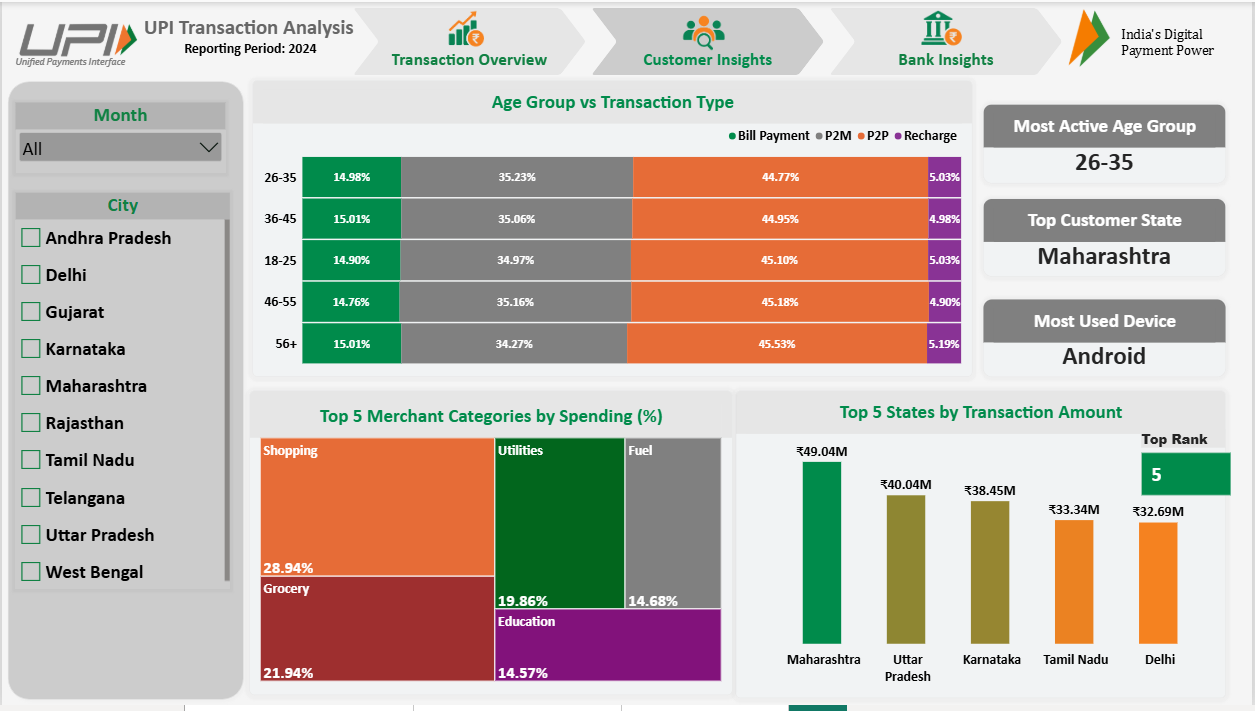

The dashboard page shown, as its layout file describes it:
{"tool":"powerbi","page":{"name":"Customer Insights","canvas":[1920,1080],"ordinal":1},"visuals":[{"type":"image","box":[6.9,4.6,221.2,108.3],"z":0,"group":"g1"},{"type":"textbox","box":[161.3,0,435.5,94.5],"z":1000,"group":"g1"},{"type":"pageNavigator","box":[539.2,9.2,1092.3,103.7],"z":2000},{"type":"card","title":"Most Active Age Group","fields":{"Values":["Calculated_measures.most_active_age_group"]},"box":[1507.1,156.7,373.3,122.1],"z":3000},{"type":"shape","box":[0,112.1,380.2,967.9],"z":4000},{"type":"image","box":[1610.8,4.6,115.2,101.4],"z":5000},{"type":"textbox","box":[1719.1,36.9,189,87.6],"z":6000},{"type":"image","box":[629.1,4.6,163.6,71.4],"z":7000},{"type":"image","box":[995.5,9.2,163.6,71.4],"z":8000},{"type":"image","box":[1359.6,4.6,163.6,71.4],"z":9000},{"type":"slicer","title":"City","fields":{"Values":["upi_transactions_2024.sender_state"]},"box":[20.7,292.7,329.5,608.4],"z":10000},{"type":"slicer","title":"Month","fields":{"Values":["Date_Table.Date.Variation.Date Hierarchy.Month"]},"box":[20.7,154.4,322.6,108.3],"z":11000},{"type":"card","title":"Top Customer State","fields":{"Values":["Calculated_measures.top_customer_state"]},"box":[1507.1,301.9,373.3,119.8],"z":12000},{"type":"card","title":"Most Used Device","fields":{"Values":["Calculated_measures.most_used_device_"]},"box":[1507.1,456.3,373.3,119.8],"z":13000},{"type":"hundredPercentStackedBarChart","title":"Age Group vs Transaction Type","fields":{"Category":["upi_transactions_2024.sender_age_group"],"Series":["upi_transactions_2024.transaction type"],"Y":["Calculated_measures.transaction_count_total"]},"box":[384.8,119.8,1106.1,456.3],"z":14000},{"type":"clusteredColumnChart","fields":{"Category":["upi_transactions_2024.sender_state"],"Y":["Calculated_measures.top_cities_rank_var"]},"box":[1126.9,596.9,753.6,472.4],"z":15000},{"type":"slicer","fields":{"Values":["Rank_Table .Rank_Table "]},"box":[1742.2,656.8,145,141],"z":16000},{"type":"treemap","title":"Top 5 Merchant Categories by Spending (%)","fields":{"Group":["upi_transactions_2024.merchant_category"],"Values":["Calculated_measures.merchant_spending_percentage"]},"box":[380.2,596.9,742,467.8],"z":17000},{"type":"group","id":"g1","title":"Group 1","box":[6.9,0,589.9,112.9],"z":17001},{"type":"textbox","box":[20.7,62.2,230.4,43.8],"z":18001,"group":"g1"}]}

Visuals, with their boxes in screenshot pixels (x1, y1, x2, y2), scaled from the page's 1920x1080 canvas onto the 1255x711 screenshot:
image: left=5, top=3, right=149, bottom=74
textbox: left=105, top=0, right=390, bottom=62
pageNavigator: left=352, top=6, right=1066, bottom=74
"Most Active Age Group" card: left=985, top=103, right=1229, bottom=184
shape: left=0, top=74, right=249, bottom=710
image: left=1053, top=3, right=1128, bottom=70
textbox: left=1124, top=24, right=1247, bottom=82
image: left=411, top=3, right=518, bottom=50
image: left=651, top=6, right=758, bottom=53
image: left=889, top=3, right=996, bottom=50
"City" slicer: left=14, top=193, right=229, bottom=593
"Month" slicer: left=14, top=102, right=224, bottom=173
"Top Customer State" card: left=985, top=199, right=1229, bottom=278
"Most Used Device" card: left=985, top=300, right=1229, bottom=379
"Age Group vs Transaction Type" hundredPercentStackedBarChart: left=252, top=79, right=975, bottom=379
clusteredColumnChart - upi_transactions_2024.sender_state x Calculated_measures.top_cities_rank_var: left=737, top=393, right=1229, bottom=704
slicer - Rank_Table .Rank_Table : left=1139, top=432, right=1234, bottom=525
"Top 5 Merchant Categories by Spending (%)" treemap: left=249, top=393, right=734, bottom=701
"Group 1" group: left=5, top=0, right=390, bottom=74
textbox: left=14, top=41, right=164, bottom=70
